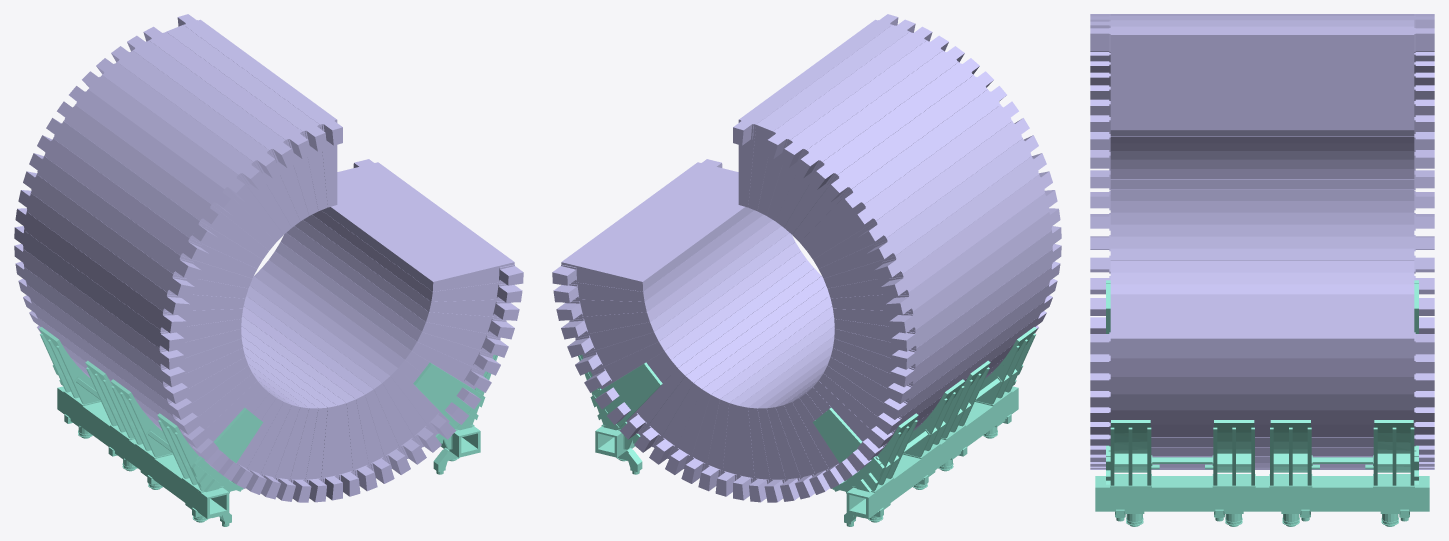
The model's file is Tile-Barrel-cut3.glb.
3 renders of one model, left to right at view 1: azimuth 30°, elevation 25°; view 2: azimuth 150°, elevation 25°; view 3: azimuth 270°, elevation 25°, orthographic. The views are drawn at different scales.
Visible parts, largest first — view 1: null; view 2: null; view 3: null.
Boxes of the visible parts, box(x1,y1,x2,y2) form: null: box(14, 14, 523, 526); null: box(552, 14, 1061, 526); null: box(1090, 14, 1434, 526).
Size of the model in its own units: 8.47 by 8.73 by 6.39.
